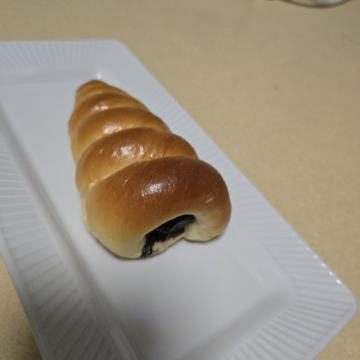cream horn: (58, 120, 278, 304)
